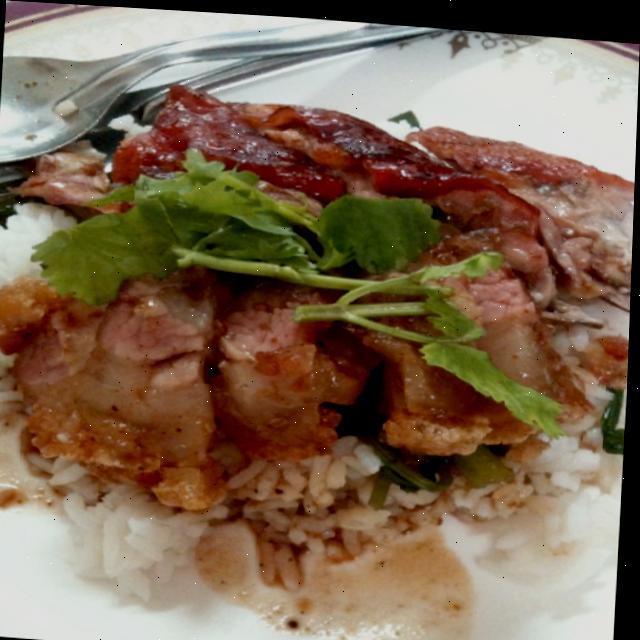米饭主食: (12, 37, 631, 640)
